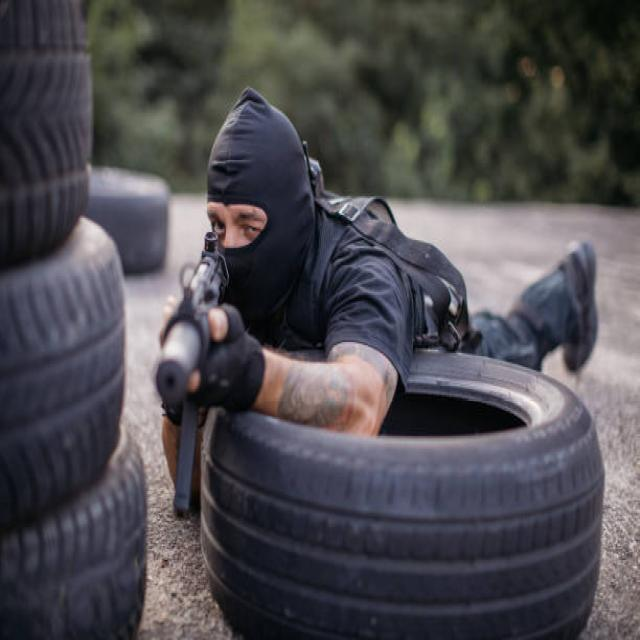soldier: (156, 90, 601, 512)
